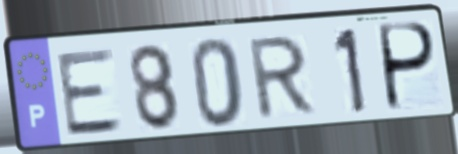0: (188, 35, 246, 130)
1: (332, 25, 370, 119)
8: (126, 41, 182, 134)
E: (53, 45, 127, 140)
P: (378, 19, 440, 114)
R: (247, 32, 320, 124)
